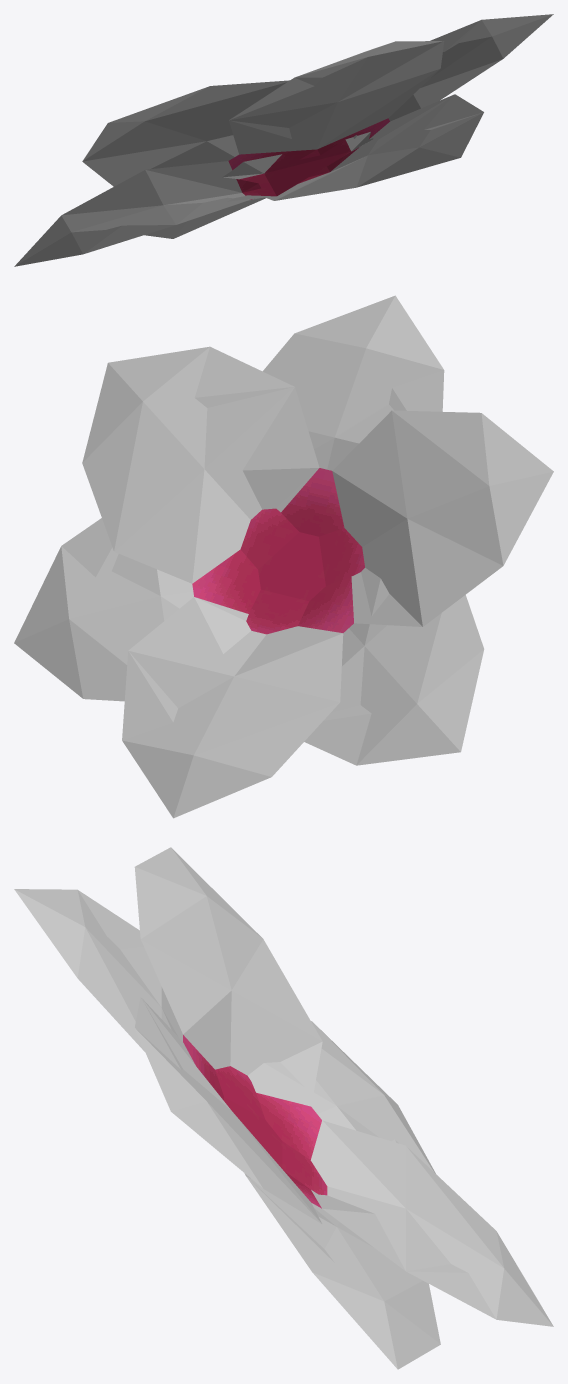
Rendered from BR_Meganium-Shiny02.obj.
The picture shows the model from 3 angles, top to bottom: view 1: azimuth 30°, elevation 25°; view 2: azimuth 150°, elevation 25°; view 3: azimuth 270°, elevation 25°; orthographic projection. The views are drawn at different scales.
Parts seen in each view (by area): view 1: meganium; view 2: meganium; view 3: meganium.
Boxes of the visible parts, box(x1,y1,x2,y2) form: meganium: box(14, 14, 553, 266); meganium: box(14, 295, 553, 818); meganium: box(14, 847, 553, 1369).
Size of the model in its own units: 12.39 by 9.55 by 10.67.
